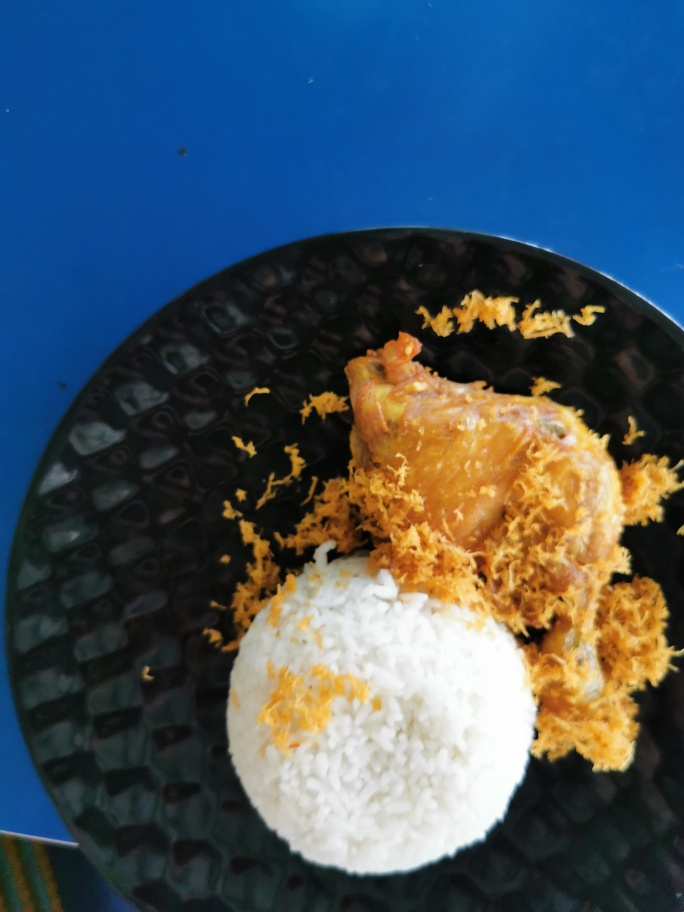ayam goreng: (333, 325, 653, 786)
nasi putih: (240, 559, 533, 887)
